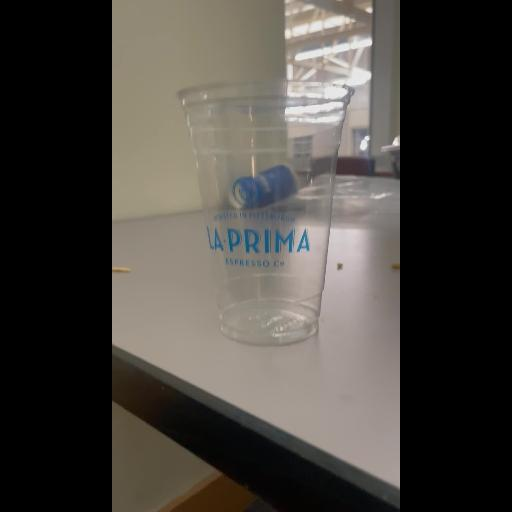lp_plastic_cup: (170, 74, 354, 346)
